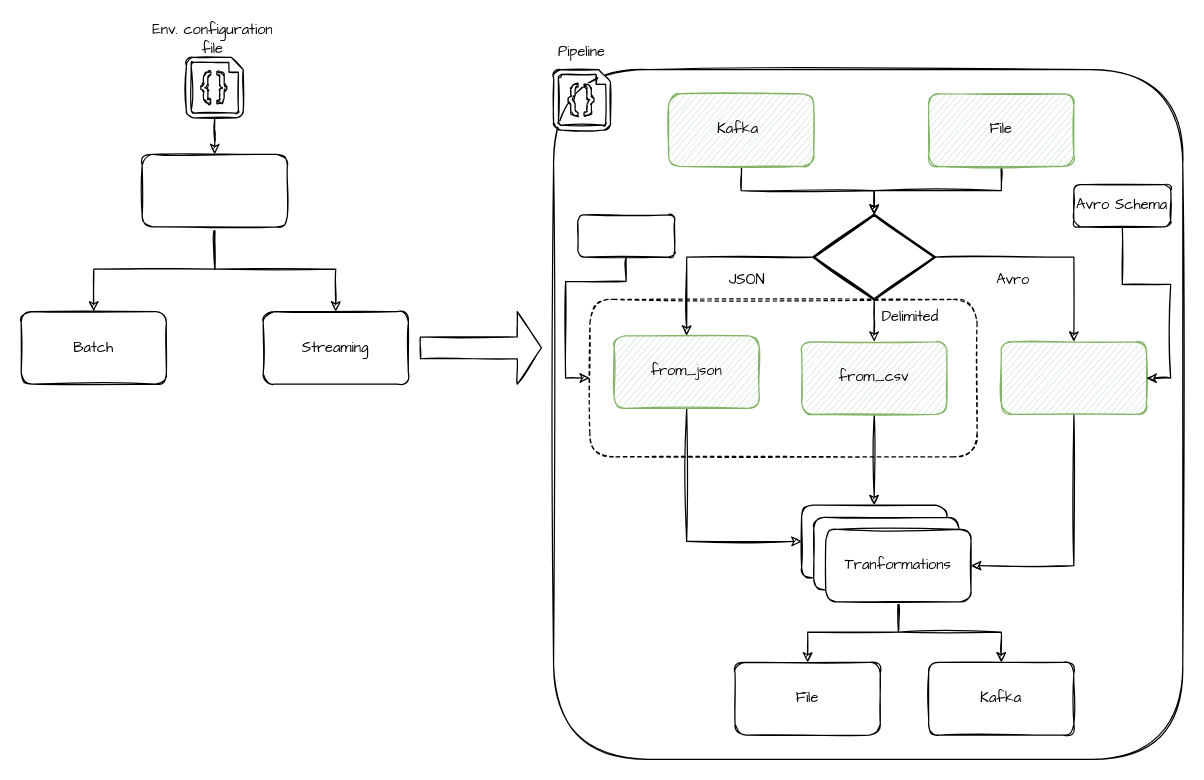
This 1204x780 diagram has some shape labels left out. Each missing label, with the box of its shape:
Arrow Driver: (141, 153, 287, 227)
Format: (812, 213, 935, 300)
from_avro: (1000, 341, 1146, 414)
schema (StructType): (577, 214, 675, 257)
